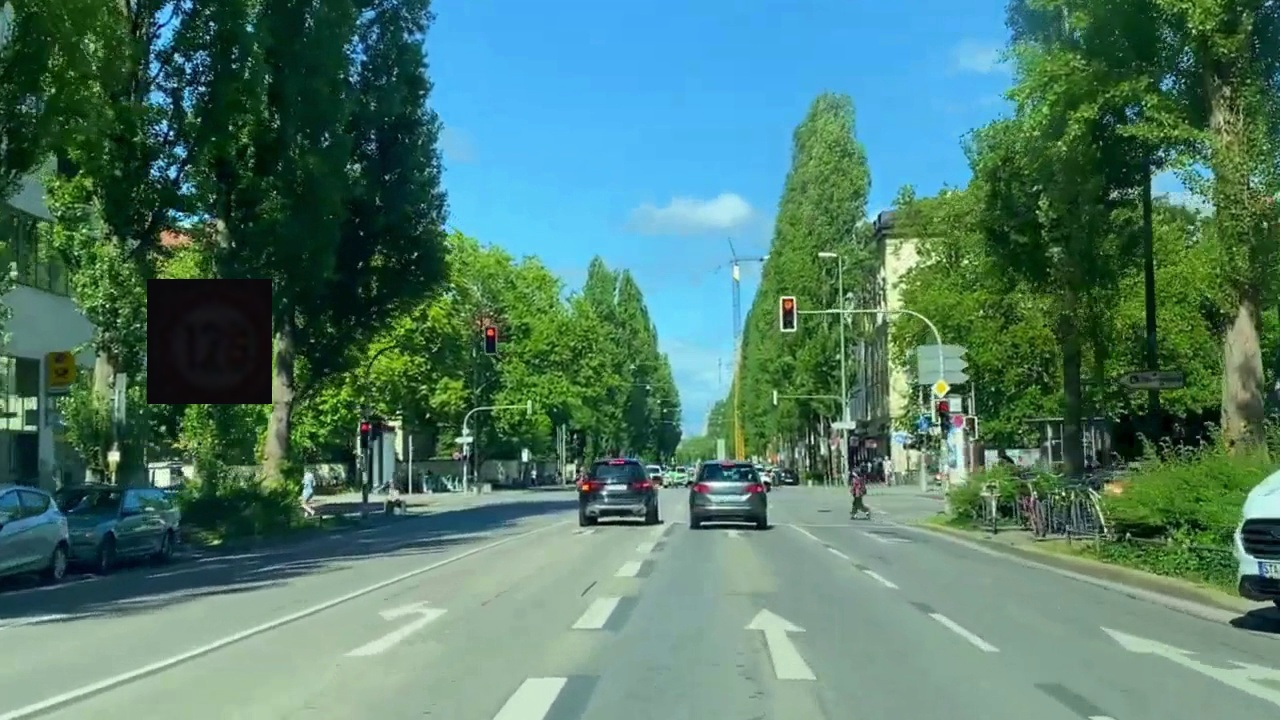Speed 120: (147, 279, 272, 404)
